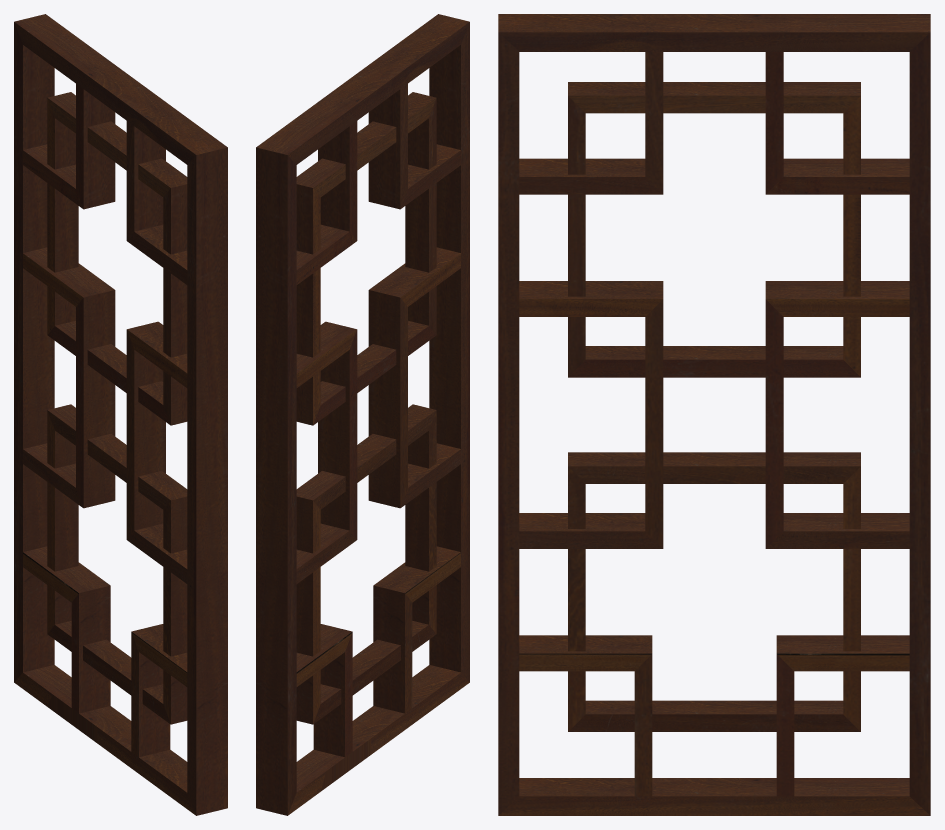
Rendered from Window.fbx.
The picture shows the model from 3 angles, left to right: view 1: azimuth 30°, elevation 25°; view 2: azimuth 150°, elevation 25°; view 3: azimuth 270°, elevation 25°; orthographic projection. The views are drawn at different scales.
Visible parts, largest first — view 1: Cube.001; view 2: Cube.001; view 3: Cube.001.
Part boxes in pixels (box(x1,y1,x2,y2)): Cube.001: box(14, 14, 227, 815); Cube.001: box(256, 14, 469, 815); Cube.001: box(498, 14, 930, 815).
Bounding box in the file's own units: 10 × 200 × 100.
